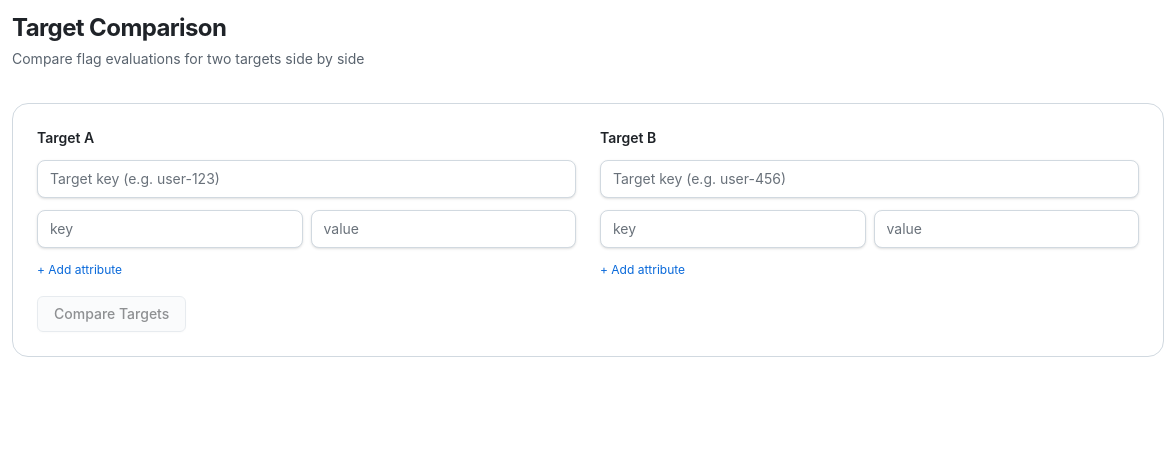
Test case: TargetComparisonPage › add/remove attributes for target B
The image size is (1164, 452).
Click the button "+ Add attribute" below "Target B" at (642, 270), box x1=600 y1=262 x2=685 y2=278
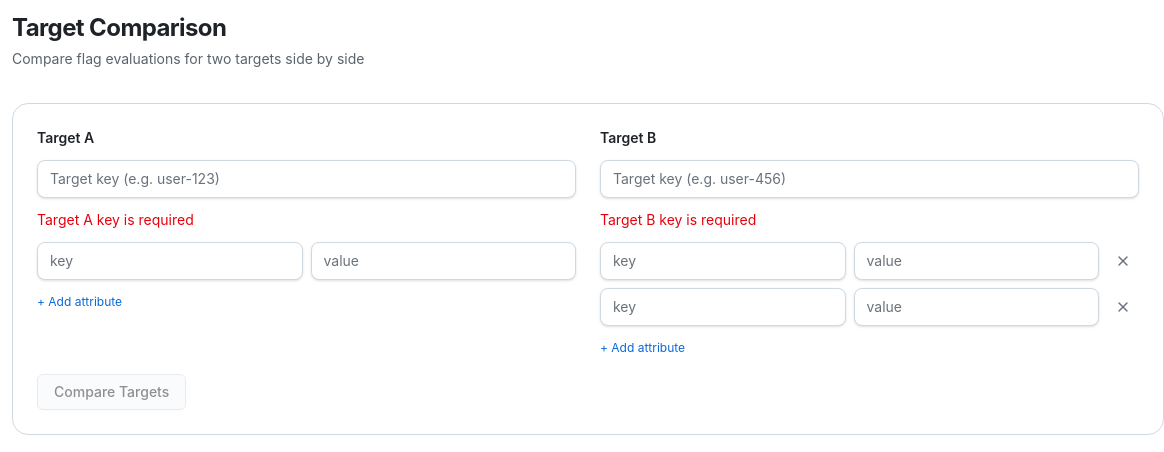
Expected: the number of fields with placeholder "key" is 3, x1=37 y1=242 x2=302 y2=280; x1=600 y1=242 x2=846 y2=280; x1=600 y1=288 x2=846 y2=326
Click the 1st button at (1123, 261), box x1=1107 y1=245 x2=1139 y2=277
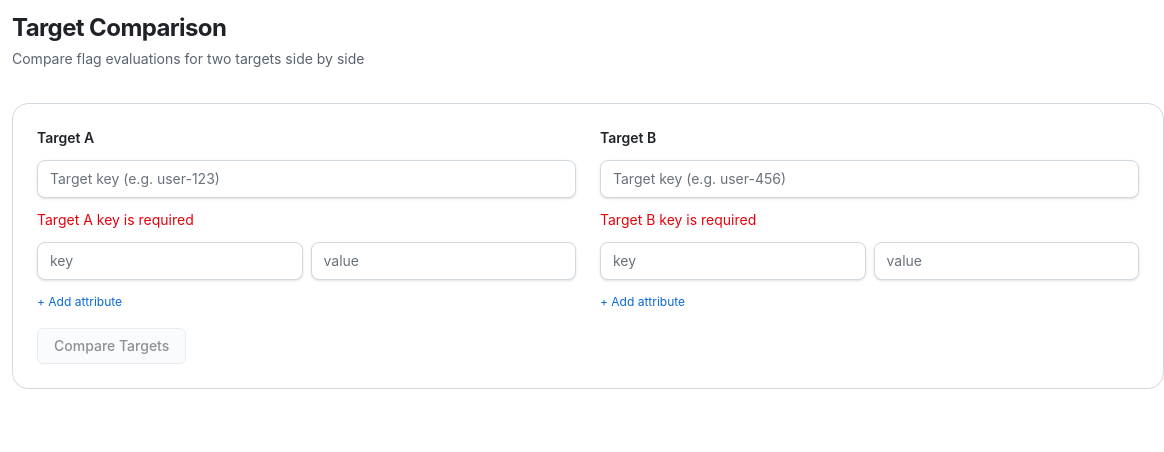
Expected: the number of fields with placeholder "key" is 2, x1=37 y1=242 x2=302 y2=280; x1=600 y1=242 x2=866 y2=280
